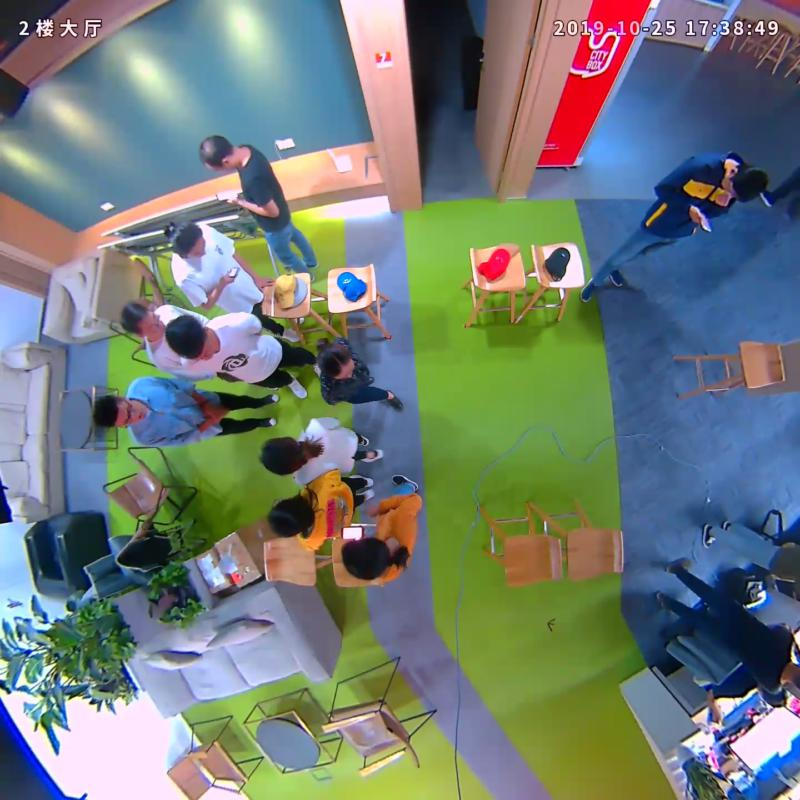head: (165, 314, 214, 361), (340, 537, 392, 580), (720, 165, 770, 205), (92, 395, 150, 429), (266, 498, 314, 538), (260, 437, 305, 475), (121, 302, 163, 338), (168, 221, 206, 259), (198, 134, 235, 173), (320, 341, 354, 382)
